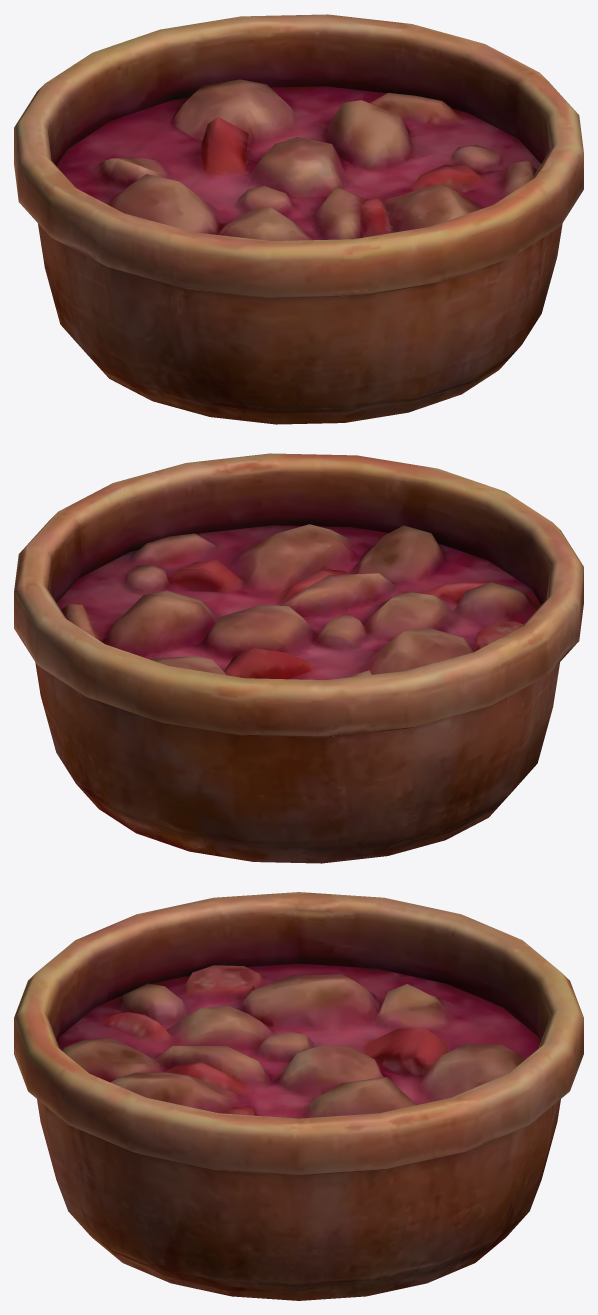
3 renders of one model, top to bottom at view 1: azimuth 30°, elevation 25°; view 2: azimuth 150°, elevation 25°; view 3: azimuth 270°, elevation 25°, orthographic.
Parts seen in each view (by area): view 1: SM_Item_Food_Stew_BeefTomato_LOD0; view 2: SM_Item_Food_Stew_BeefTomato_LOD0; view 3: SM_Item_Food_Stew_BeefTomato_LOD0.
Boxes of the visible parts, x1,y1,x2,y2 form: SM_Item_Food_Stew_BeefTomato_LOD0: [14, 14, 583, 424]; SM_Item_Food_Stew_BeefTomato_LOD0: [14, 453, 583, 863]; SM_Item_Food_Stew_BeefTomato_LOD0: [14, 892, 583, 1300].
Size of the model in its own units: 0.3091 by 0.134 by 0.3091.
1 material, 1 textured.
